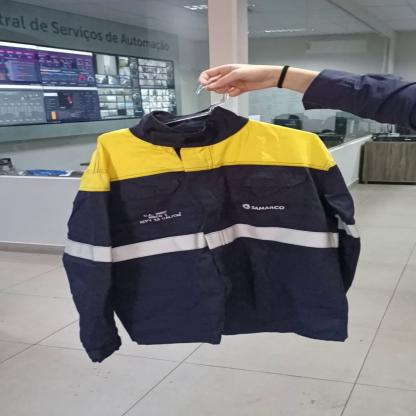C_eletrica: (59, 111, 365, 358)
